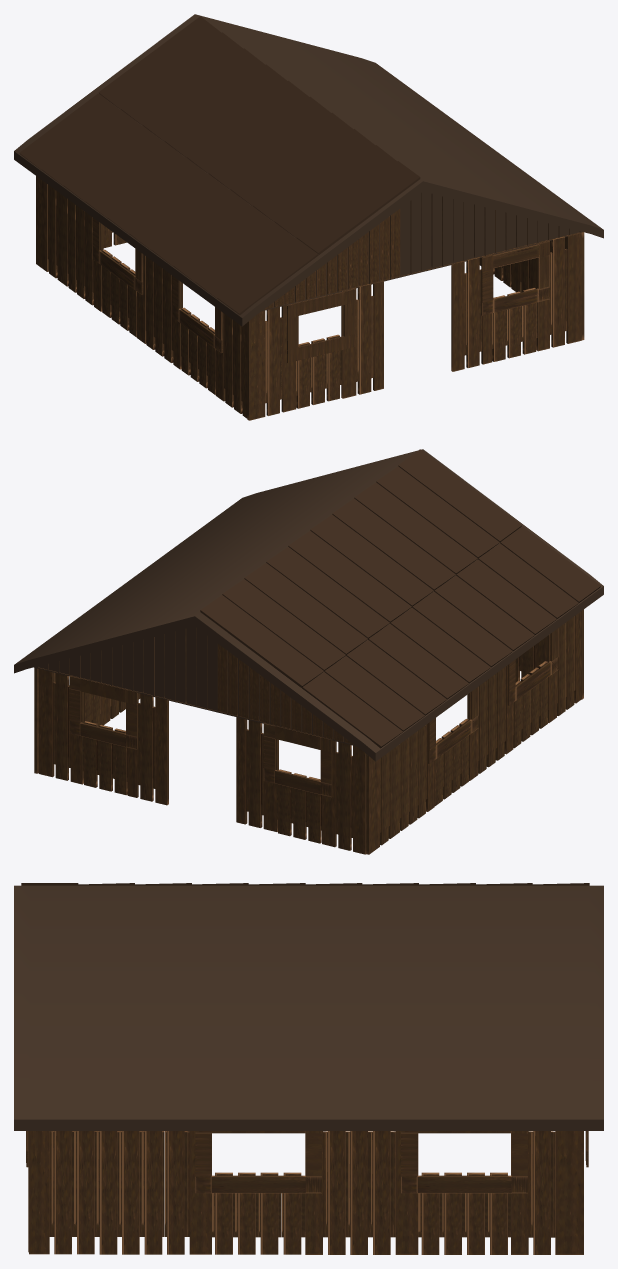
The model's file is House_Fora.fbx.
3 renders of one model, top to bottom at view 1: azimuth 30°, elevation 25°; view 2: azimuth 150°, elevation 25°; view 3: azimuth 270°, elevation 25°, orthographic. The views are drawn at different scales.
Visible parts, largest first — view 1: Cube.415; view 2: Cube.415; view 3: Cube.415.
Part boxes in pixels (x1,y1,x2,y2): Cube.415: (14,14,603,420); Cube.415: (14,449,603,854); Cube.415: (14,883,603,1254).
Bounding box in the file's own units: 1027 × 558 × 1122.
